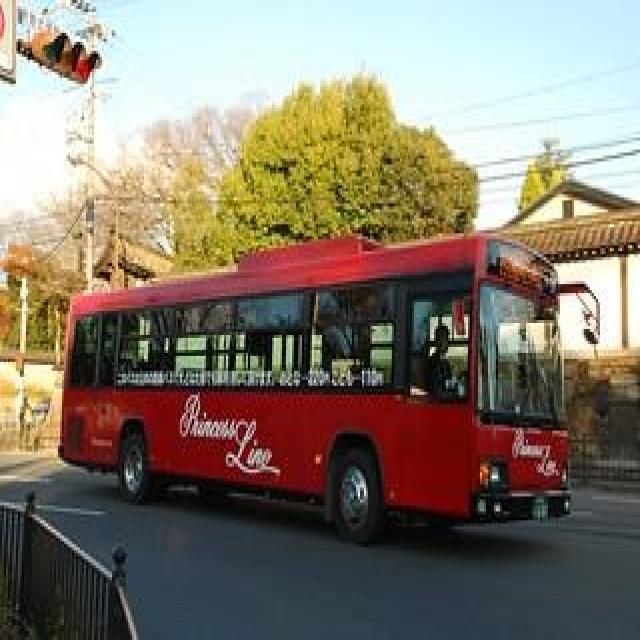Bus: (59, 231, 607, 540)
